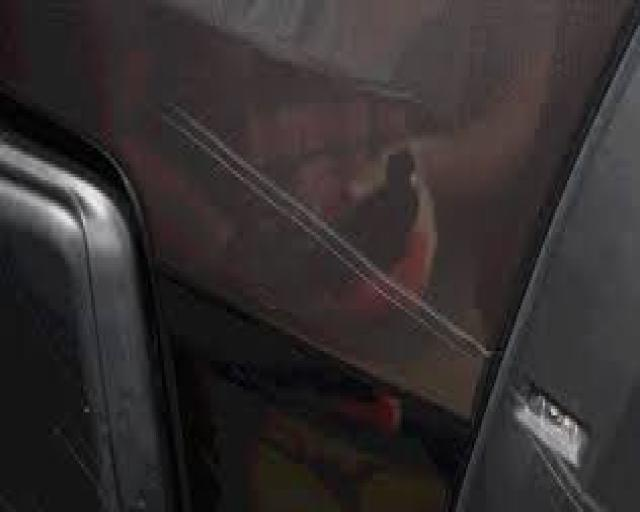scratch: (153, 85, 504, 385)
